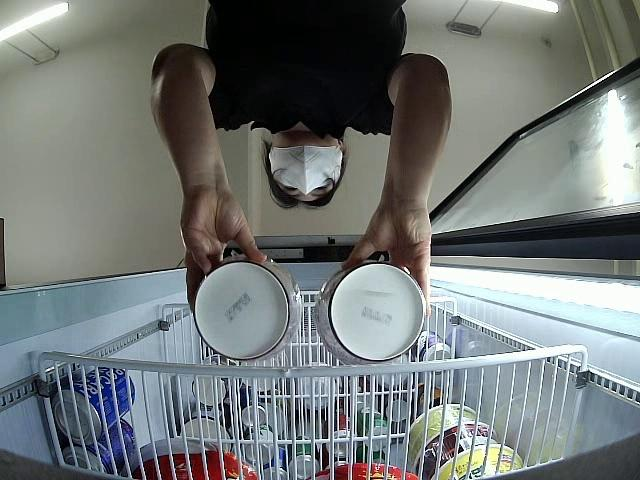00_hand: (180, 192, 266, 314), (341, 202, 431, 311)
05_nuguri_L: (192, 251, 301, 362), (316, 261, 426, 363)
